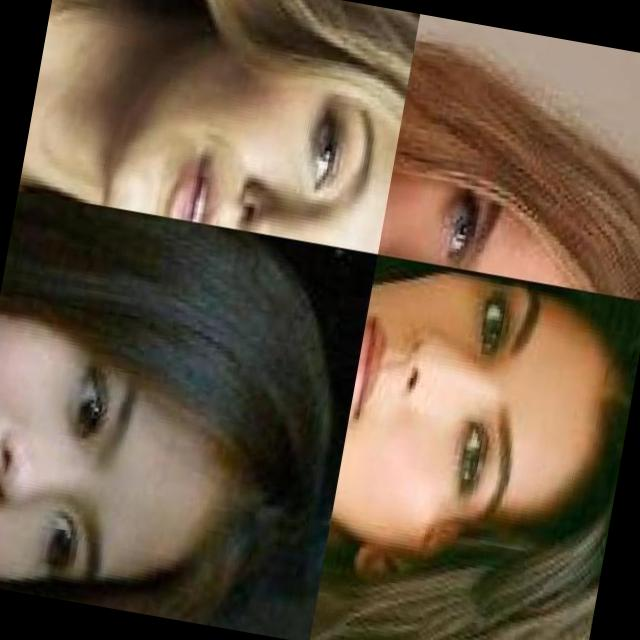bareface: (331, 275, 638, 604)
